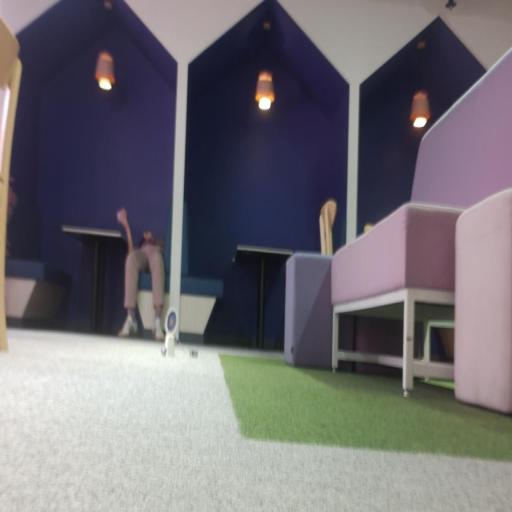target: (165, 309, 177, 334)
